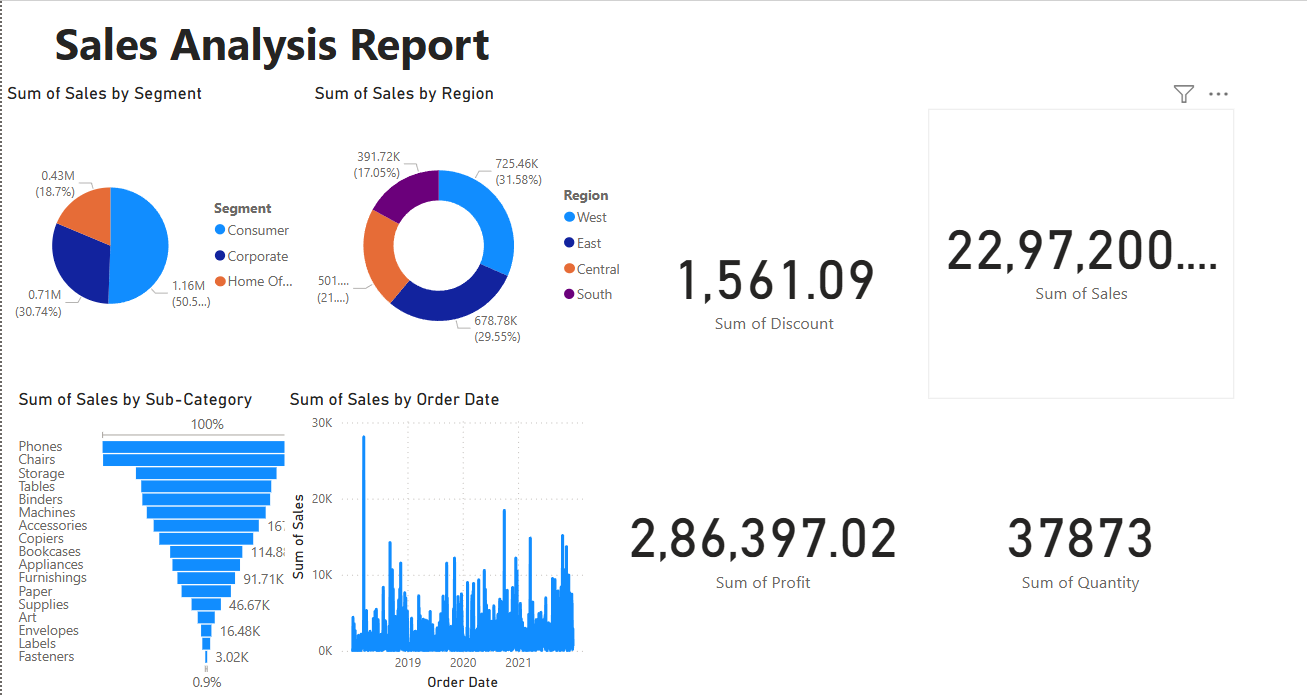

The page's visual inventory and layout, read from the dashboard file:
{"tool":"powerbi","page":{"name":"Page 1","canvas":[1280,720],"ordinal":0},"visuals":[{"type":"funnel","fields":{"Category":["Orders.Sub-Category"],"Y":["Sum(Orders.Sales)"]},"box":[11,419.9,300.5,300.5],"z":1000},{"type":"pieChart","fields":{"Category":["Orders.Segment"],"Y":["Sum(Orders.Sales)"]},"box":[0,119.4,300.5,300.5],"z":2000},{"type":"lineChart","fields":{"Category":["Orders.Order Date"],"Y":["Sum(Orders.Sales)"]},"box":[275.8,419.9,300.5,300.5],"z":3000},{"type":"card","fields":{"Values":["Sum(Orders.Discount)"]},"box":[605.3,166.3,300.8,300.8],"z":4001},{"type":"card","fields":{"Values":["Sum(Orders.Profit)"]},"box":[594,420,301,300],"z":4003},{"type":"card","fields":{"Values":["Sum(Orders.Quantity)"]},"box":[905,420,301,300],"z":4004},{"type":"textbox","box":[47.1,47.1,482.6,72.4],"z":4005},{"type":"donutChart","fields":{"Category":["Orders.Region"],"Y":["Sum(Orders.Sales)"]},"box":[300.5,119.4,318.4,300.5],"z":4007},{"type":"card","fields":{"Values":["Sum(Orders.Sales)"]},"box":[905.7,145.5,300.5,284],"z":4008}]}

Visuals, with their boxes on the page's 1280x720 design canvas (x1, y1, x2, y2). These are canvas units, not pixel positions in the 1307x695 screenshot, which may show the page scaled, cropped or inside an application window:
funnel - Orders.Sub-Category x Sum(Orders.Sales): left=11, top=420, right=312, bottom=720
pieChart - Orders.Segment x Sum(Orders.Sales): left=0, top=119, right=300, bottom=420
lineChart - Orders.Order Date x Sum(Orders.Sales): left=276, top=420, right=576, bottom=720
card - Sum(Orders.Discount): left=605, top=166, right=906, bottom=467
card - Sum(Orders.Profit): left=594, top=420, right=895, bottom=720
card - Sum(Orders.Quantity): left=905, top=420, right=1206, bottom=720
textbox: left=47, top=47, right=530, bottom=120
donutChart - Orders.Region x Sum(Orders.Sales): left=300, top=119, right=619, bottom=420
card - Sum(Orders.Sales): left=906, top=146, right=1206, bottom=430
